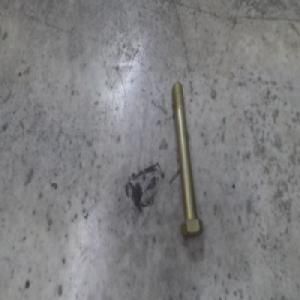Bolt: (171, 82, 203, 237)
